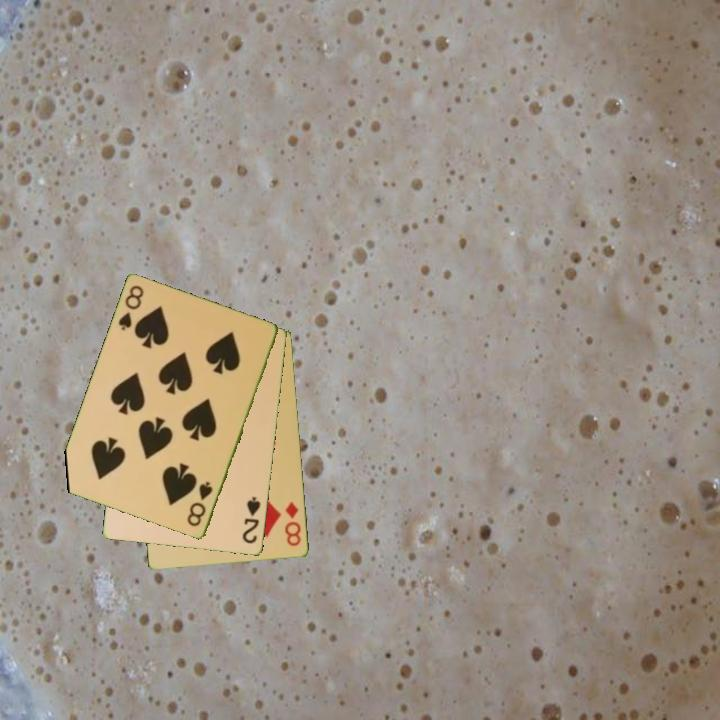2s: (239, 494, 263, 547)
8d: (282, 498, 304, 549)
8s: (184, 478, 216, 530), (115, 282, 147, 334)
